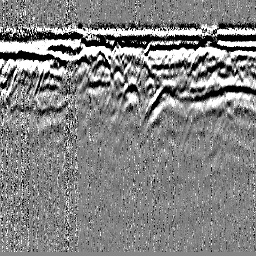cavity: (118, 76, 141, 116)
